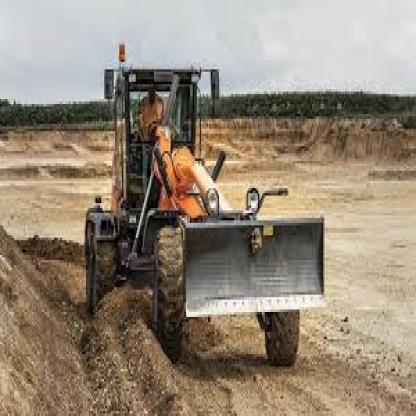bull_dozer/loader/grader: (46, 22, 348, 344)
